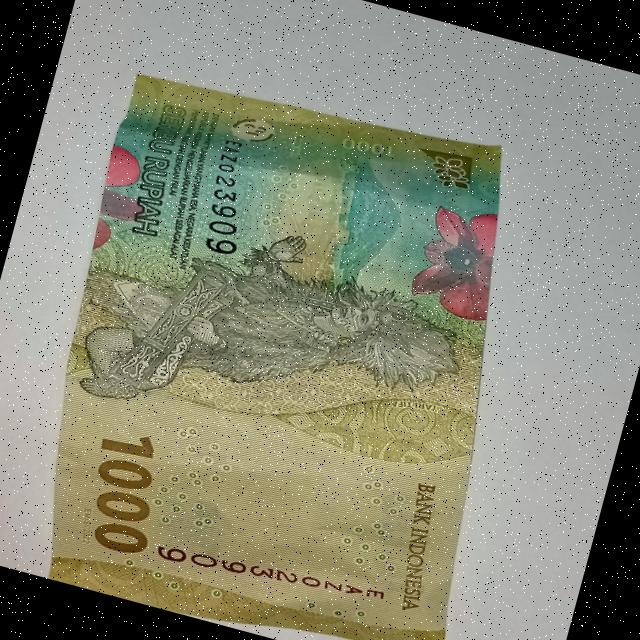1K: (7, 38, 585, 640)
